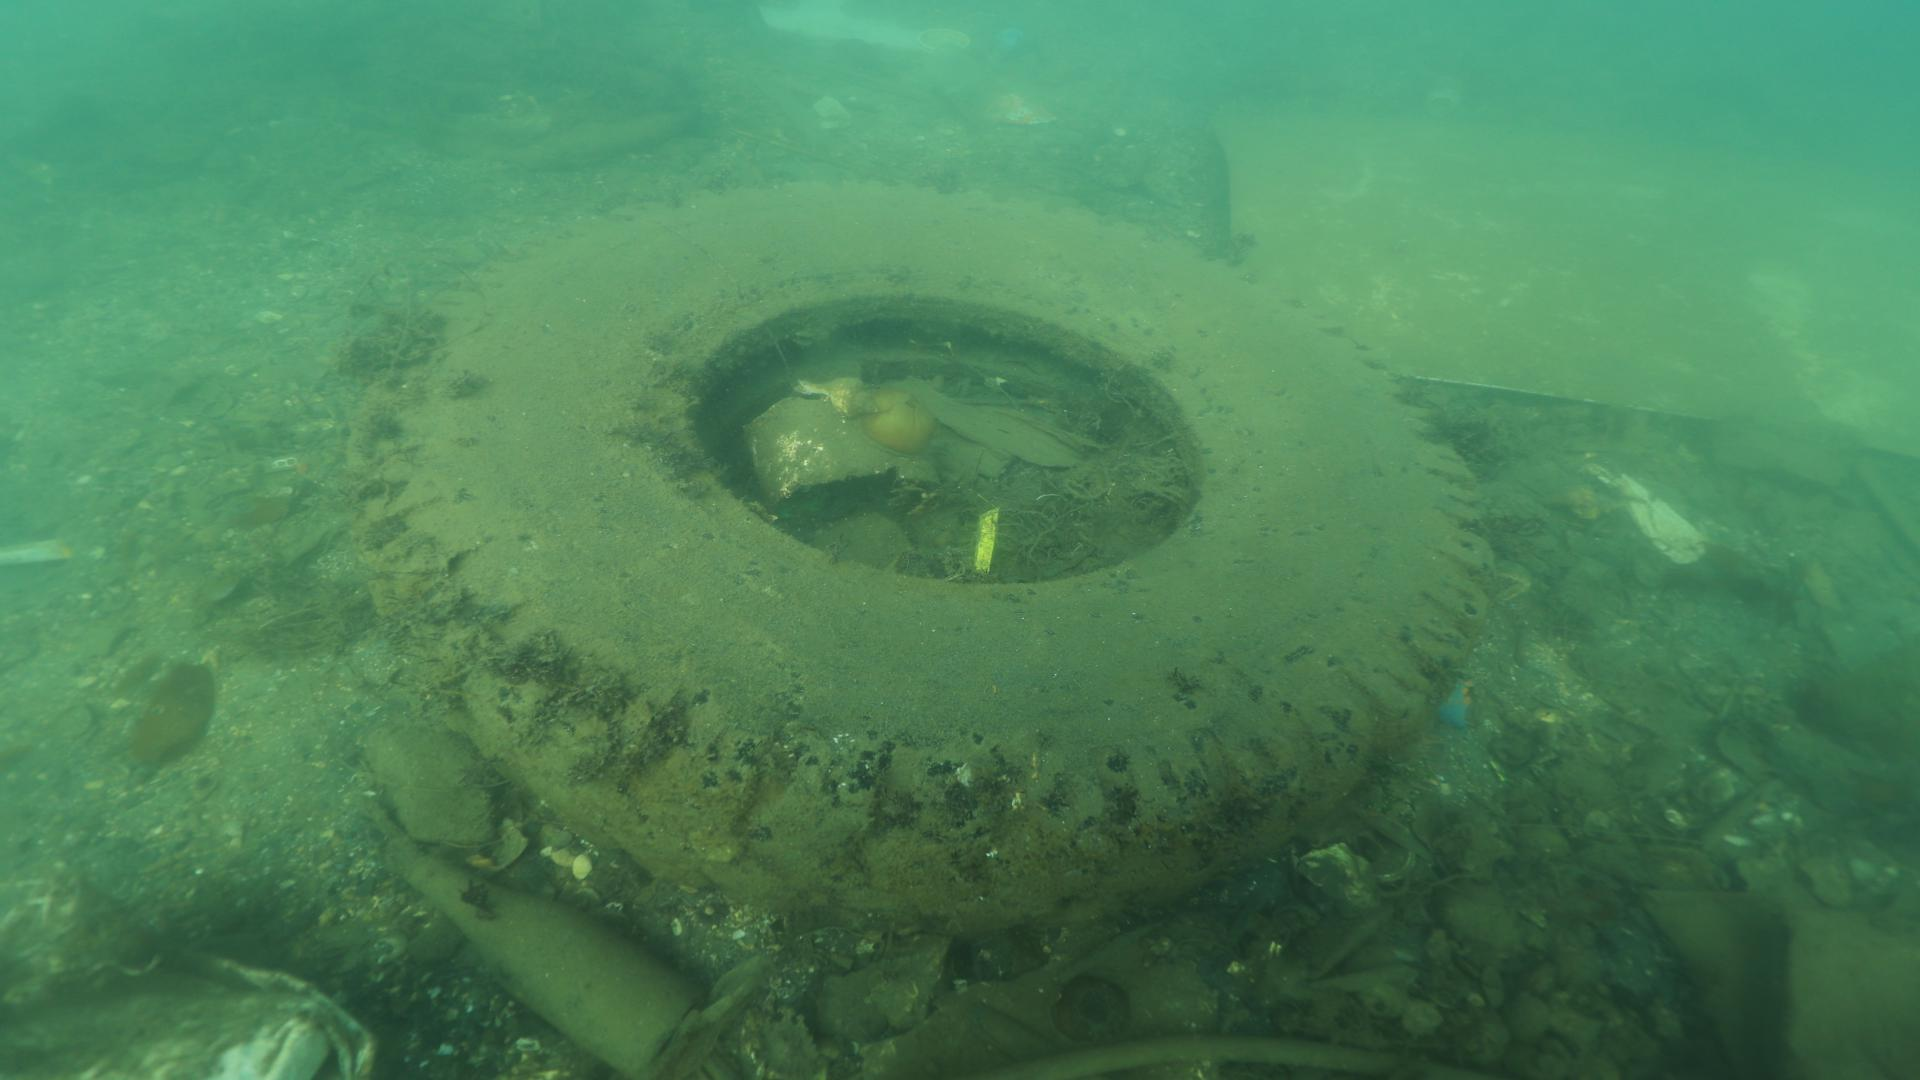tire: (357, 174, 1494, 939)
